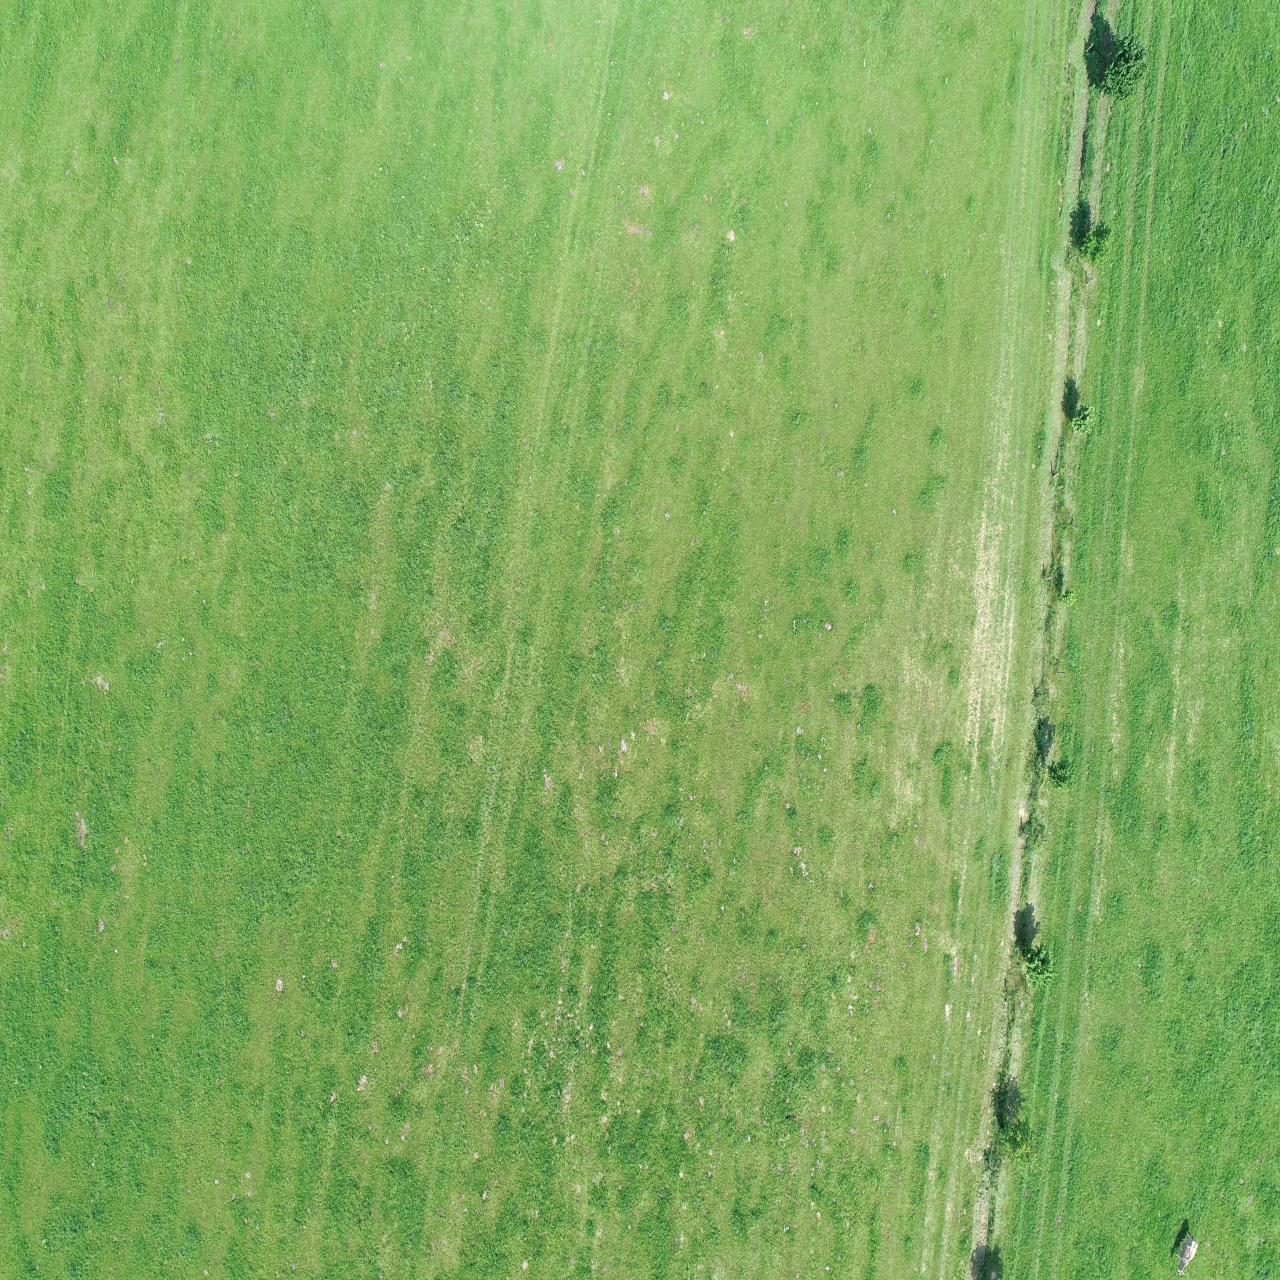cow: (40, 806, 67, 866), (142, 641, 172, 681)
